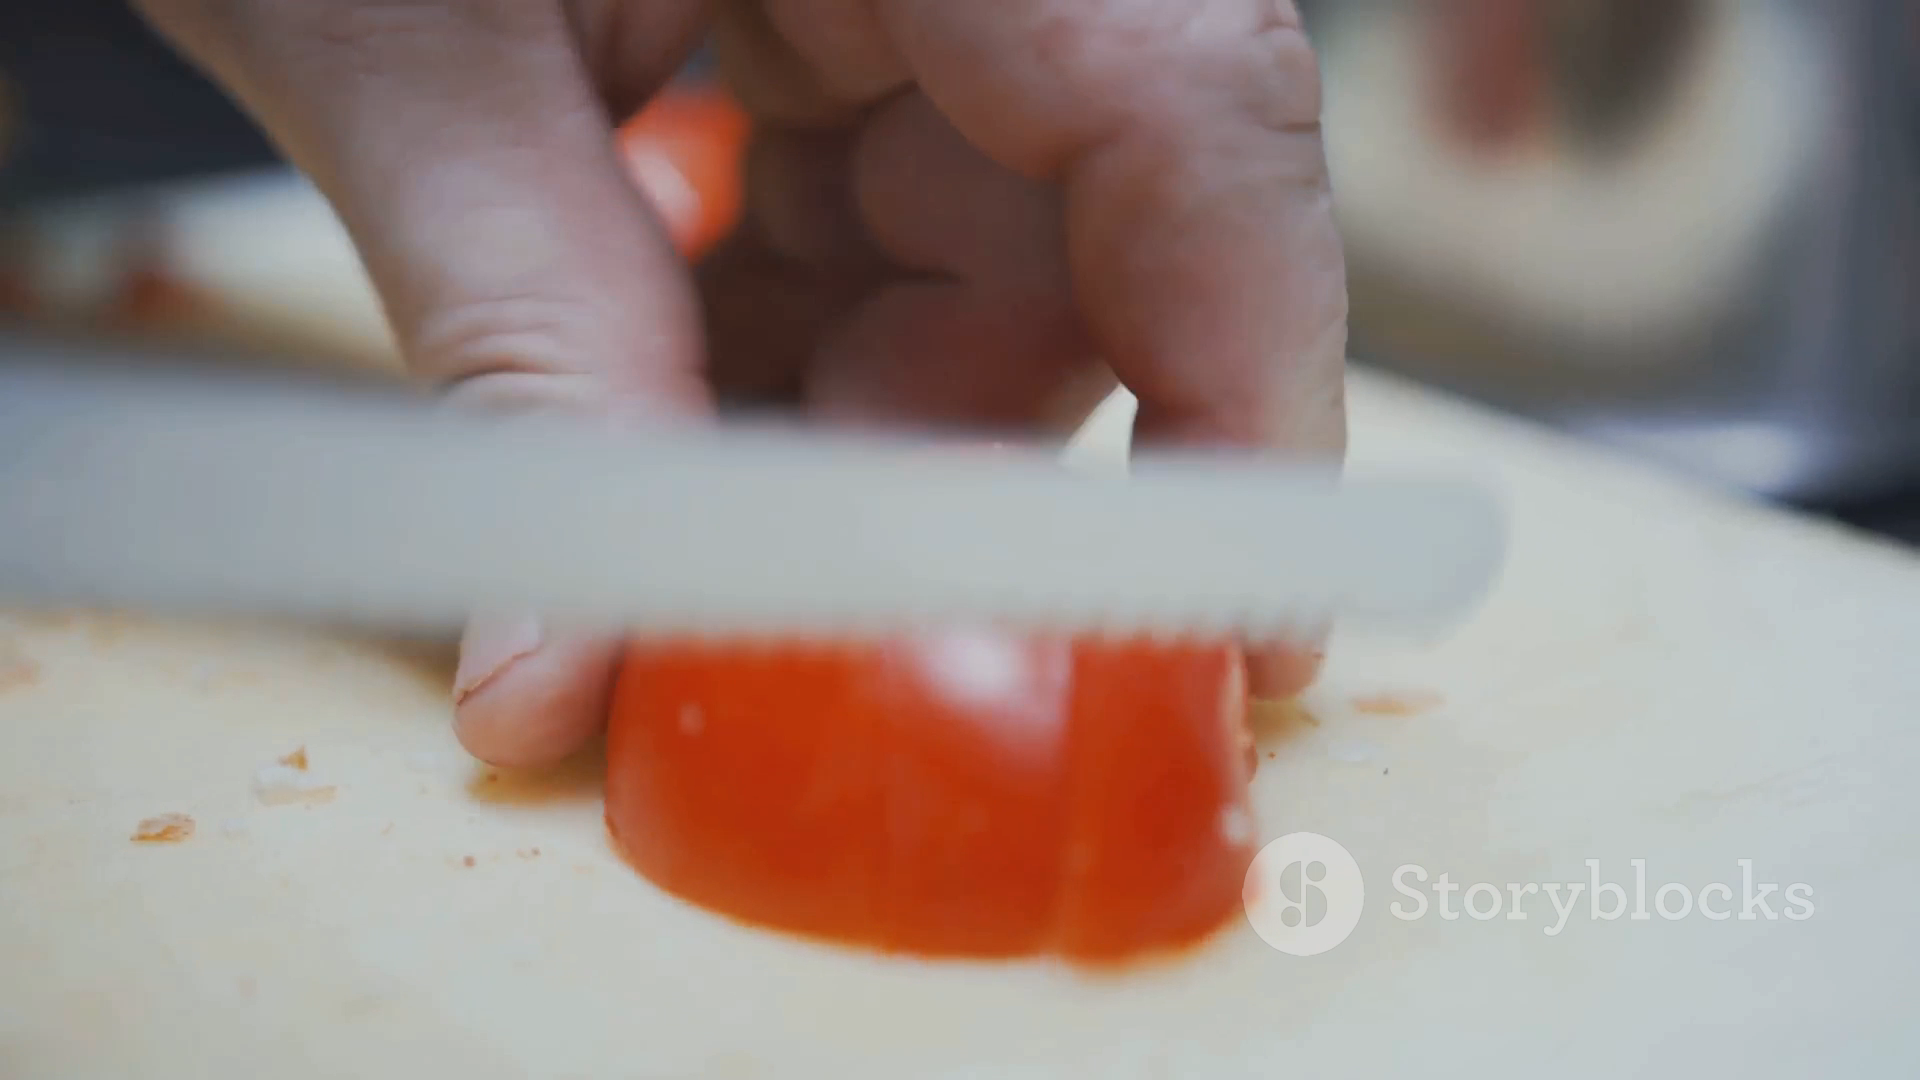cortante: (0, 406, 1507, 661)
